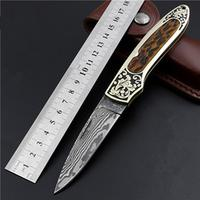knife: (50, 5, 186, 197)
